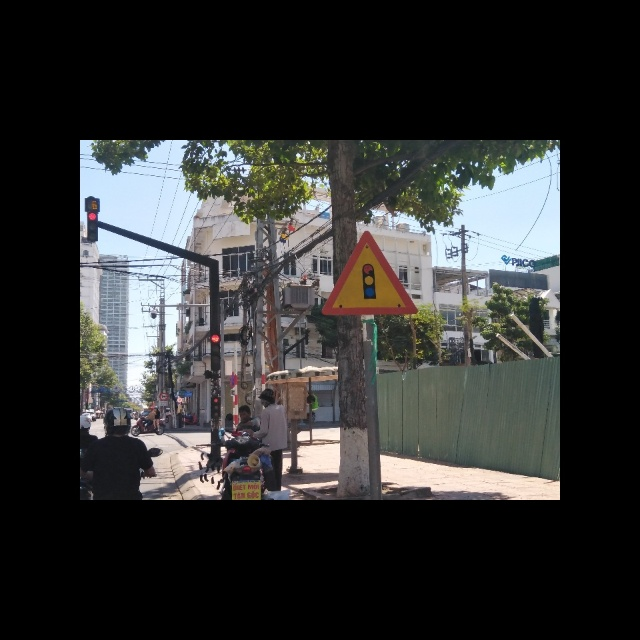Giao nhau có tín hiệu đèn: (318, 229, 422, 317)
Đèn đỏ: (209, 335, 219, 344)
